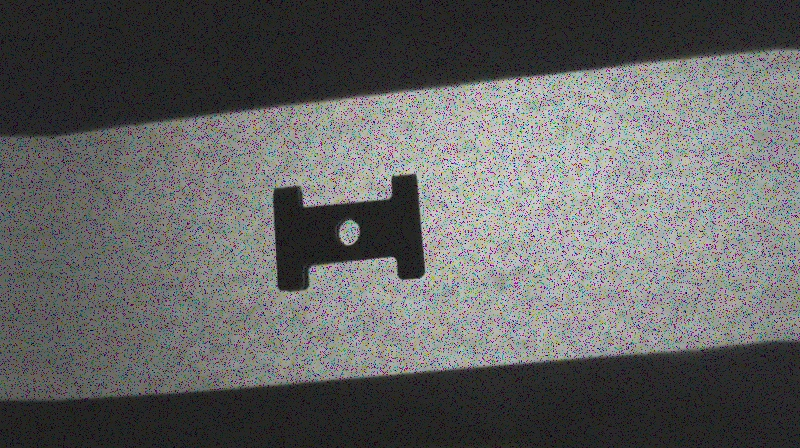O002: (266, 168, 427, 297)
